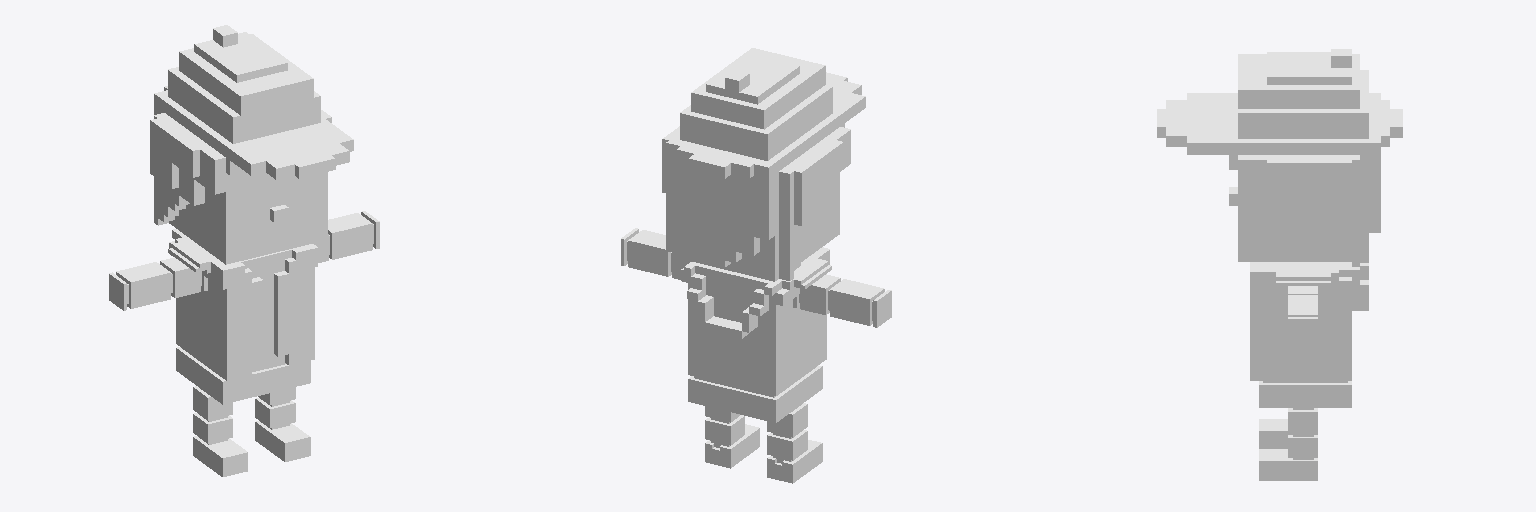
Rendered from original.obj.
3 renders of one model, left to right at view 1: azimuth 30°, elevation 25°; view 2: azimuth 150°, elevation 25°; view 3: azimuth 270°, elevation 25°, orthographic.
Parts seen in each view (by area): view 1: object 1; view 2: object 1; view 3: object 1.
Part boxes in pixels (left/top/right/bottom): object 1: left=109, top=25, right=379, bottom=476; object 1: left=621, top=48, right=891, bottom=483; object 1: left=1157, top=49, right=1402, bottom=480.
Bounding box in the file's own units: 7 × 10.6 × 5.8.